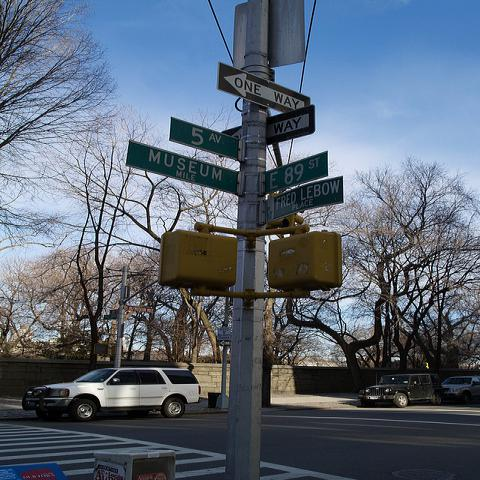car: (21, 367, 202, 423), (358, 374, 444, 408), (440, 371, 480, 407)
truck: (358, 374, 446, 408)
